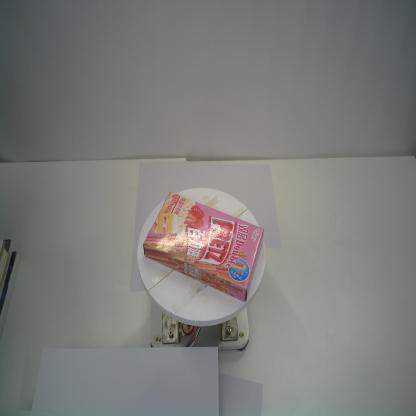Dessert: (142, 190, 264, 305)
